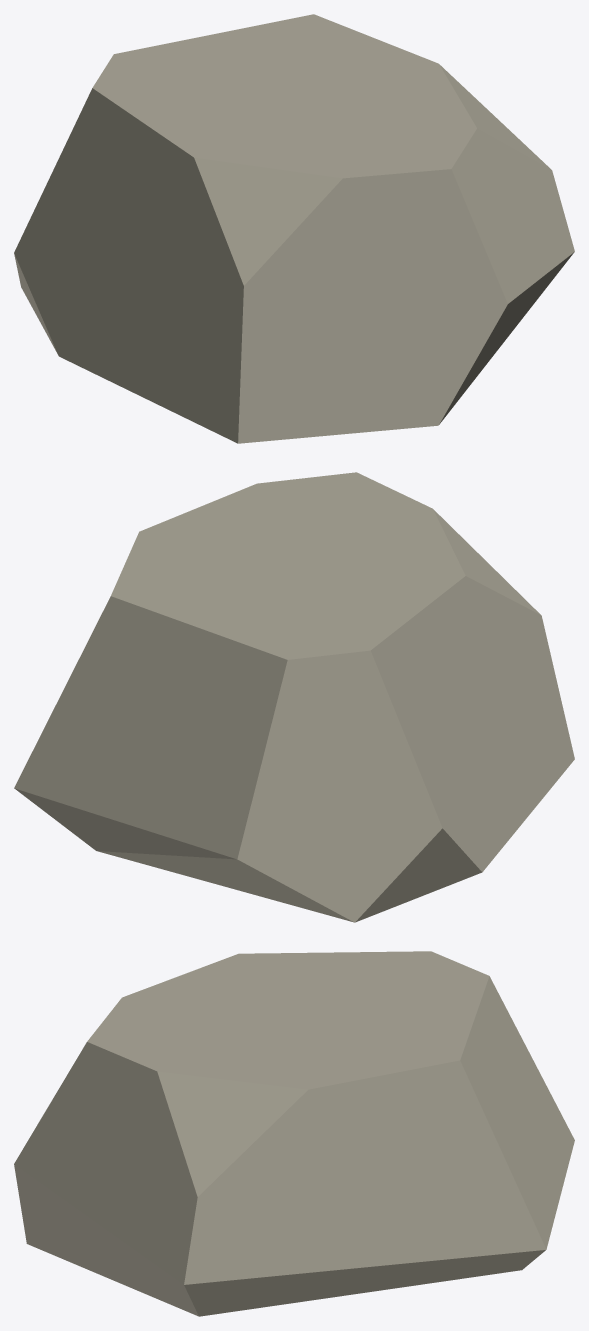
File: Rock3_tex.fbx
3 renders of one model, top to bottom at view 1: azimuth 30°, elevation 25°; view 2: azimuth 150°, elevation 25°; view 3: azimuth 270°, elevation 25°, orthographic. The views are drawn at different scales.
Visible parts, largest first — view 1: Rock3_tex; view 2: Rock3_tex; view 3: Rock3_tex.
Boxes of the visible parts, x1=… form: Rock3_tex: x1=14, y1=14, x2=574, y2=443; Rock3_tex: x1=14, y1=472, x2=574, y2=922; Rock3_tex: x1=14, y1=951, x2=574, y2=1316.
Size of the model in its own units: 0.5362 by 0.272 by 0.605.
